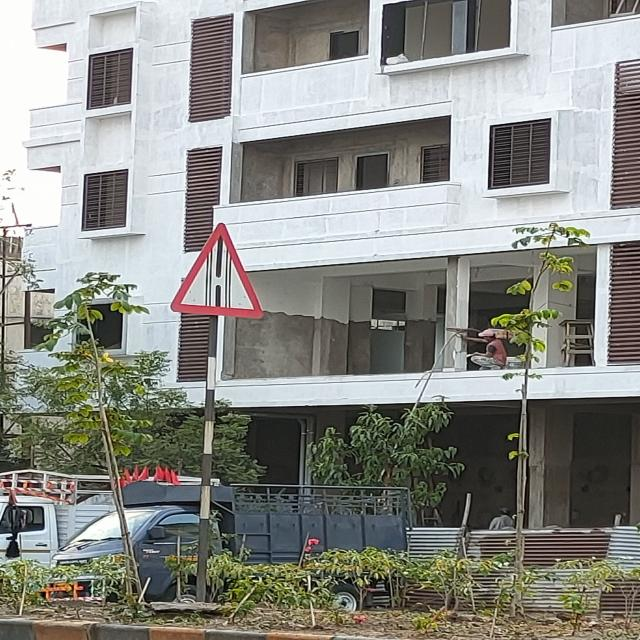ferry: (168, 222, 265, 317)
